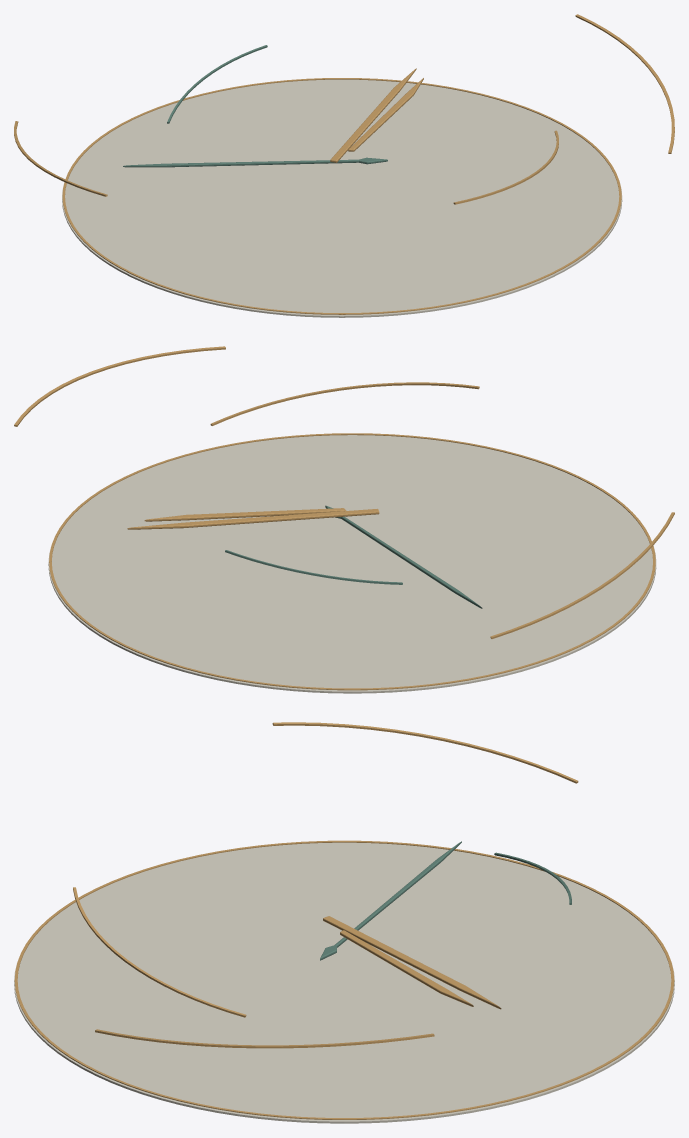
The model's file is CeilingClockDetails.fbx.
The picture shows the model from 3 angles, top to bottom: view 1: azimuth 30°, elevation 25°; view 2: azimuth 150°, elevation 25°; view 3: azimuth 270°, elevation 25°; orthographic projection. The views are drawn at different scales.
Parts seen in each view (by area): view 1: StaticDial, ForkHand, VerdigrisNeedle; view 2: StaticDial, ForkHand, VerdigrisNeedle; view 3: StaticDial, ForkHand, VerdigrisNeedle.
Part boxes in pixels (x1,y1,x2,y2): StaticDial: [14, 14, 674, 317]; ForkHand: [330, 68, 423, 162]; VerdigrisNeedle: [123, 157, 387, 167]; StaticDial: [14, 346, 674, 693]; ForkHand: [127, 508, 379, 529]; VerdigrisNeedle: [325, 505, 482, 608]; StaticDial: [14, 722, 674, 1123]; ForkHand: [323, 916, 501, 1009]; VerdigrisNeedle: [320, 841, 461, 960].
Size of the model in its own units: 2093 by 326 by 1810.
